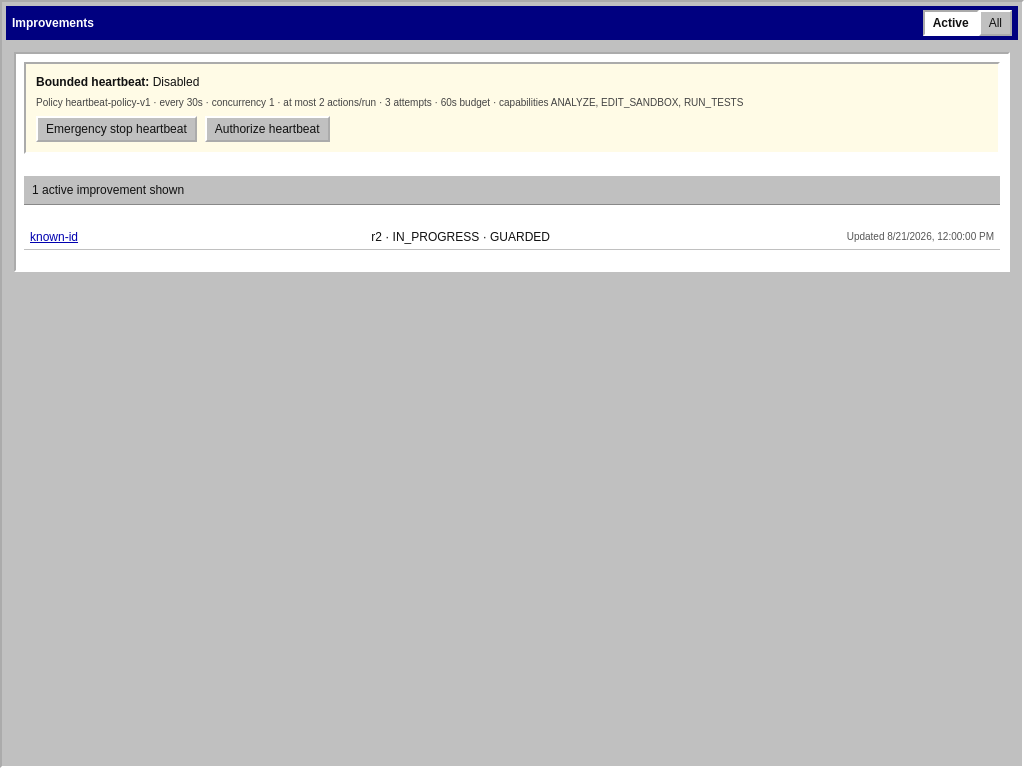
Test: Improvements interface › confirms emergency stop, cancels safely, and records only an explicit confirmed action
The image size is (1024, 768).
Click the button "Emergency stop heartbeat". click: (116, 129)
box: [36,116,197,142]
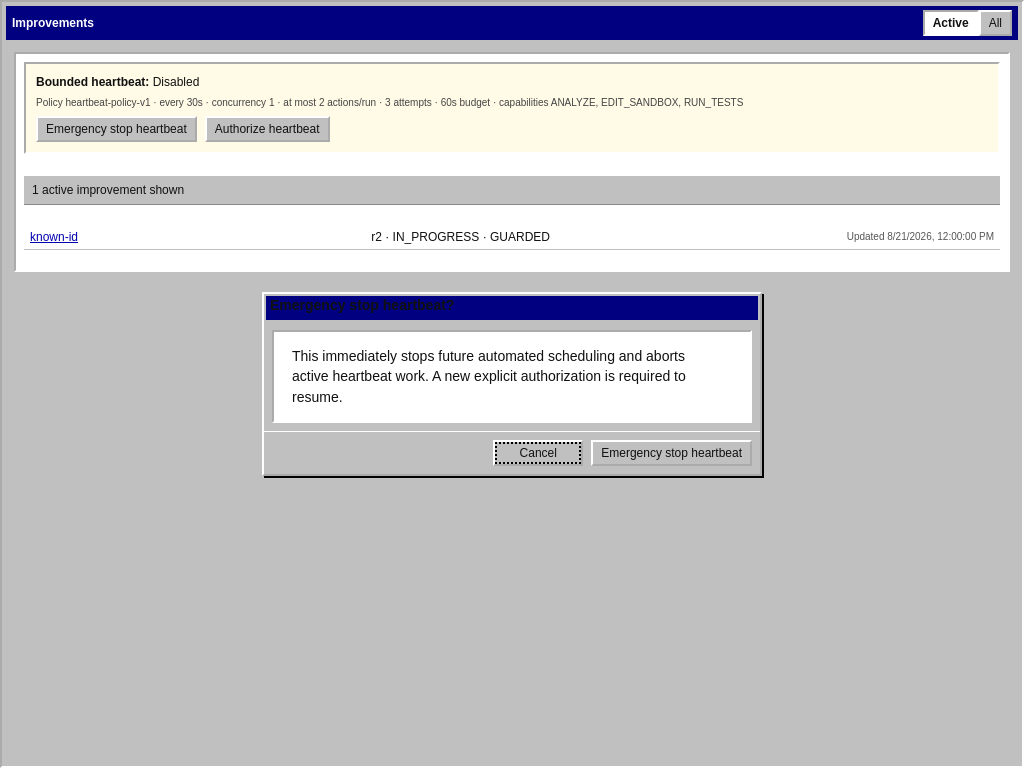
Press Escape
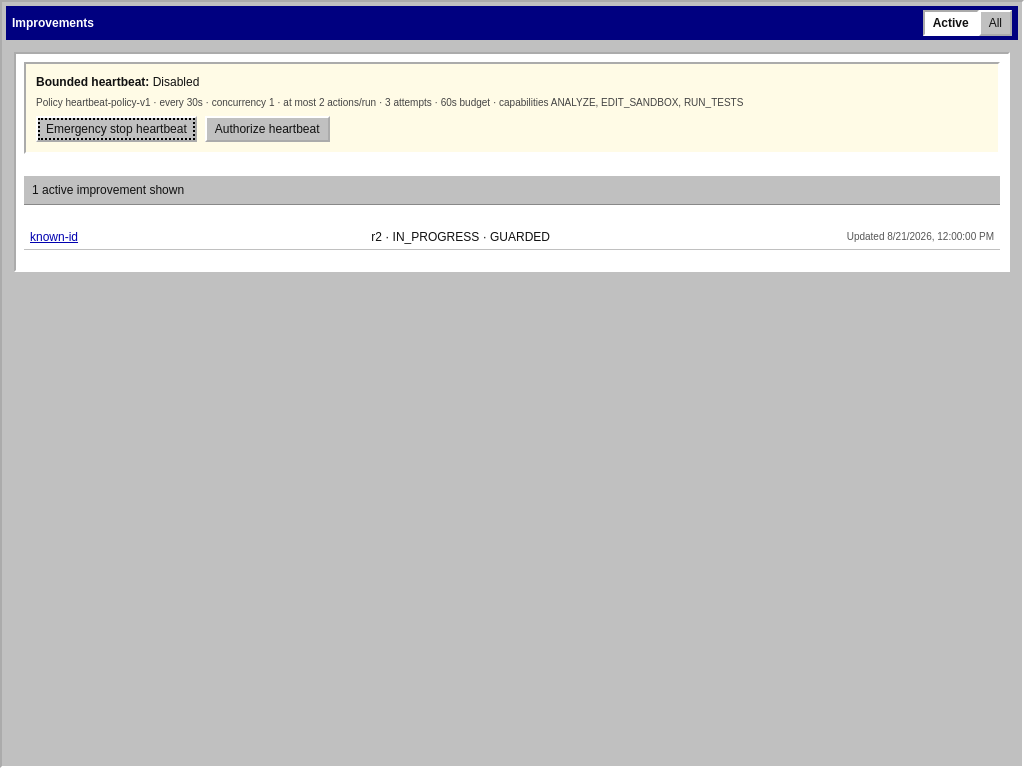
Result: the dialog is gone
Click the button "Emergency stop heartbeat". click: (116, 129)
box: [36,116,197,142]
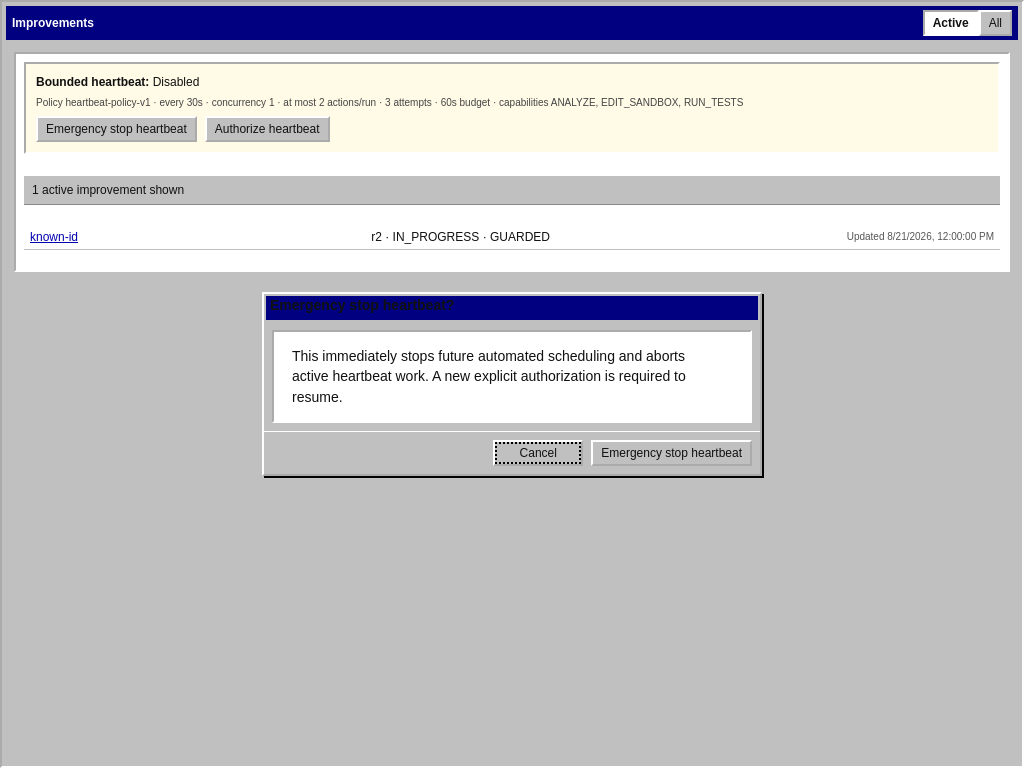
Click the button "Emergency stop heartbeat". click: (672, 453)
box: [591,440,752,466]
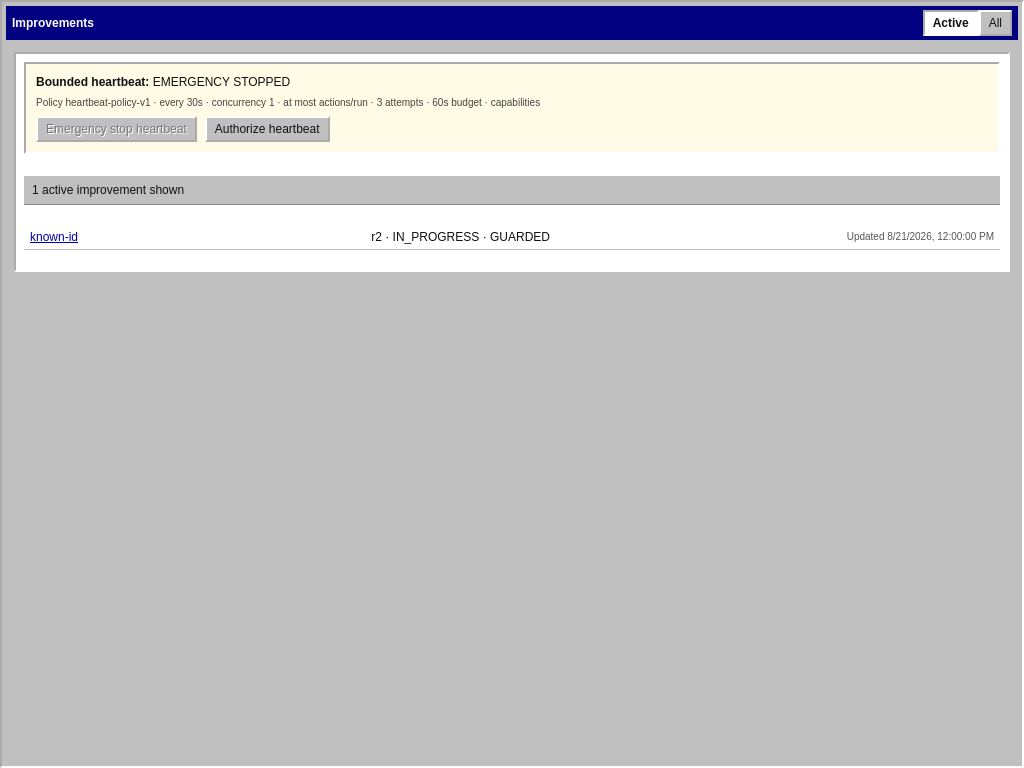
Result: the text "EMERGENCY STOPPED" is shown at [153,75,290,89]
Result: the button "Emergency stop heartbeat" is disabled at [36,116,197,142]
